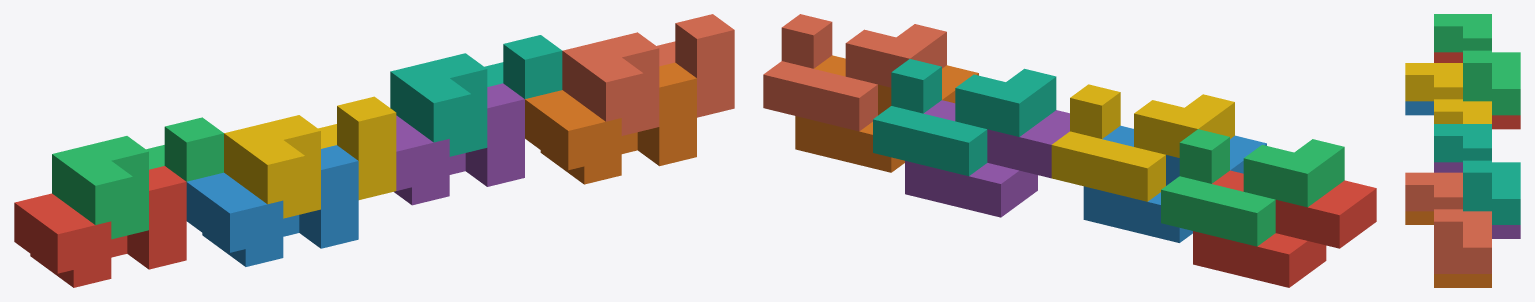
File: tiling.obj
The picture shows the model from 3 angles, left to right: view 1: azimuth 30°, elevation 25°; view 2: azimuth 150°, elevation 25°; view 3: azimuth 270°, elevation 25°; orthographic projection. The views are drawn at different scales.
Parts seen in each view (by area): view 1: copy_1_domain_8, copy_1_domain_4, copy_1_domain_7, copy_1_domain_3, copy_1_domain_1, copy_1_domain_2, copy_1_domain_6, copy_1_domain_5; view 2: copy_1_domain_3, copy_1_domain_7, copy_1_domain_8, copy_1_domain_4, copy_1_domain_1, copy_1_domain_5, copy_1_domain_2, copy_1_domain_6; view 3: copy_1_domain_8, copy_1_domain_3, copy_1_domain_7, copy_1_domain_4, copy_1_domain_6, copy_1_domain_1, copy_1_domain_5, copy_1_domain_2.
Boxes of the visible parts, x1,y1,x2,y2 form: copy_1_domain_8: (562,14,734,135); copy_1_domain_4: (224,96,396,218); copy_1_domain_7: (390,35,562,156); copy_1_domain_3: (52,117,223,239); copy_1_domain_1: (14,166,186,287); copy_1_domain_2: (186,145,358,266); copy_1_domain_6: (525,62,696,184); copy_1_domain_5: (394,83,524,205); copy_1_domain_3: (1161,129,1344,246); copy_1_domain_7: (873,59,1056,176); copy_1_domain_8: (763,14,946,131); copy_1_domain_4: (1051,84,1234,201); copy_1_domain_1: (1193,170,1376,287); copy_1_domain_5: (905,100,1069,217); copy_1_domain_2: (1083,125,1266,242); copy_1_domain_6: (795,55,978,172); copy_1_domain_8: (1405,172,1491,273); copy_1_domain_3: (1434,14,1520,115); copy_1_domain_7: (1434,124,1520,224); copy_1_domain_4: (1405,63,1491,123); copy_1_domain_6: (1405,211,1491,287); copy_1_domain_1: (1434,52,1520,129); copy_1_domain_5: (1434,162,1520,238); copy_1_domain_2: (1405,101,1433,115).
Size of the model in its own units: 18 by 3 by 4.
